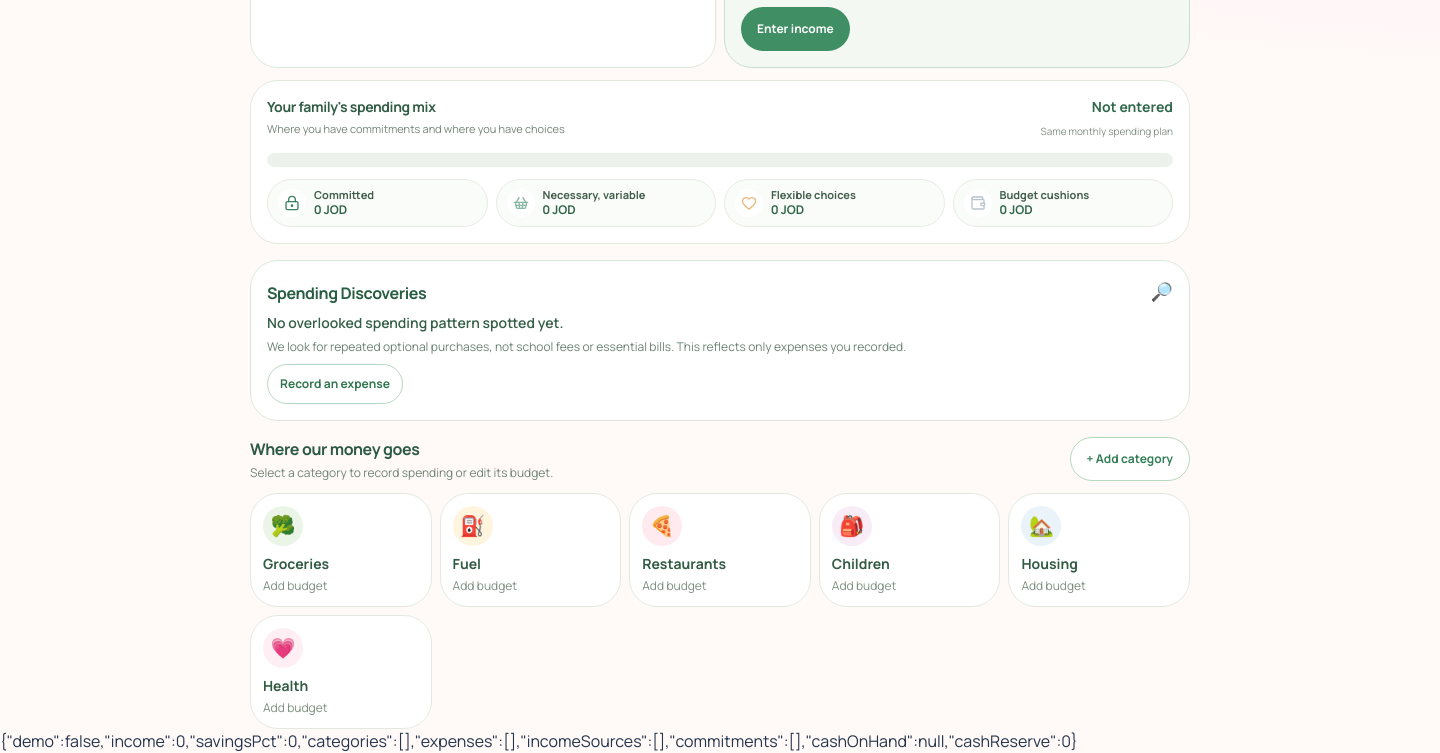
Test: direct category editing in the pictured Family Money Map › first-time groceries opens name and monthly amount directly, then card updates
The width and height of the screenshot is (1440, 753).
(page scrolled)
Click the button with test id "category-picture-groceries".
click(341, 550)  # box x1=250 y1=493 x2=432 y2=607
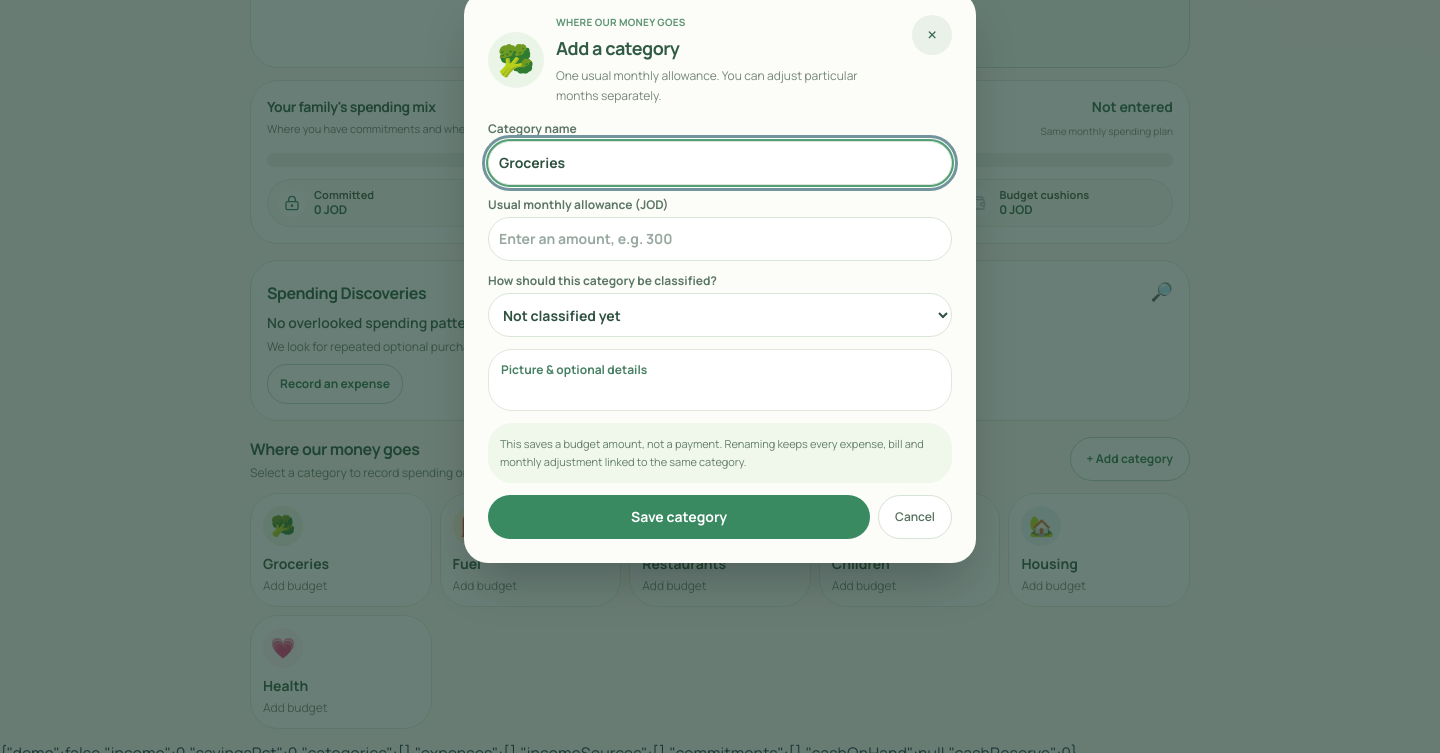
Check: the field labelled "Category name" holds "Groceries", box x1=488 y1=141 x2=952 y2=185
Type "400" into the number field labelled "Usual monthly allowance (JOD)".
click(720, 239); type("400")  # box x1=488 y1=217 x2=952 y2=261
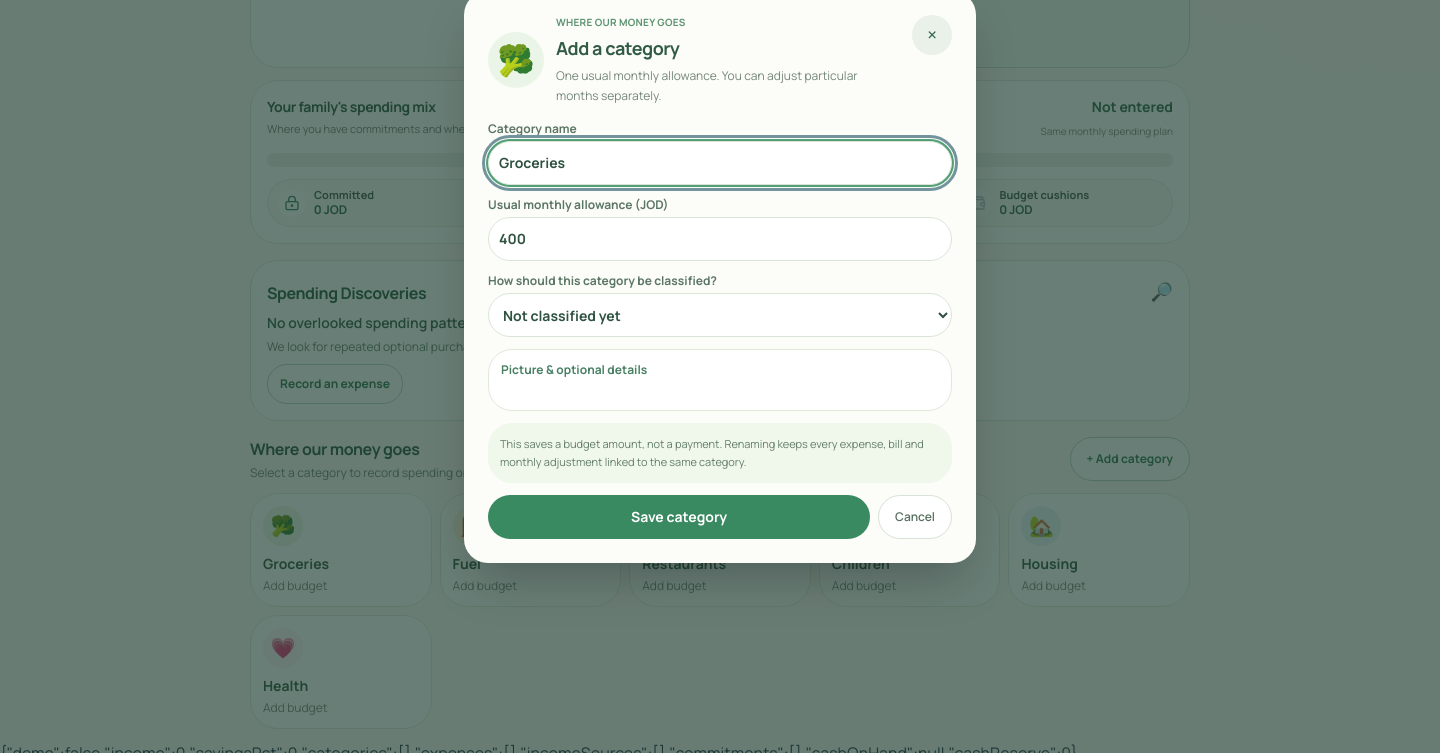
Click the button "Save category".
click(679, 517)  # box x1=488 y1=495 x2=870 y2=539
(page scrolled)
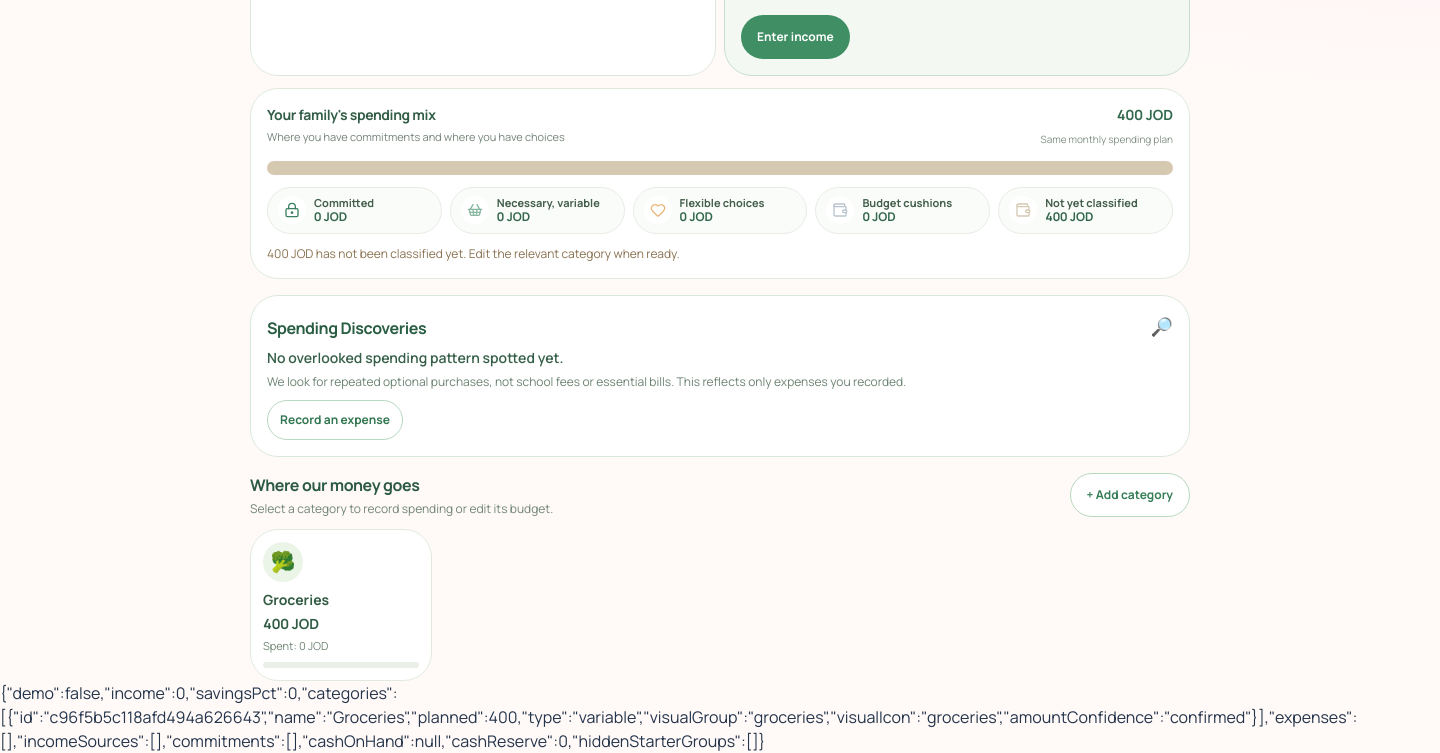
Check: the text with test id "money-records" shows "\"expenses\":[]", box x1=0 y1=682 x2=1357 y2=752
Check: the button with test id "category-picture-groceries" shows "Groceries", box x1=250 y1=529 x2=432 y2=681
Check: the text with test id "money-records" shows "\"planned\":400", box x1=0 y1=682 x2=1357 y2=752
